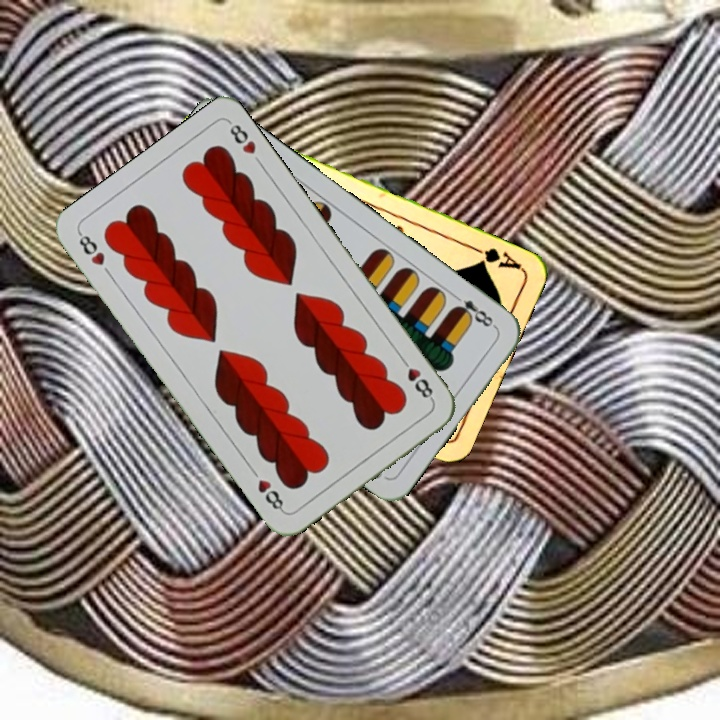E8: (448, 289, 499, 331)
GA: (468, 242, 524, 272)
H8: (396, 353, 436, 404), (74, 228, 108, 269)
